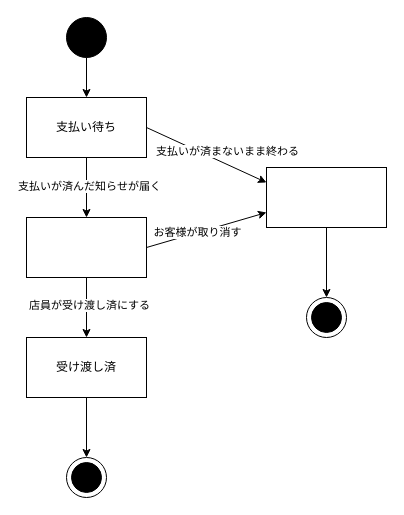
Some shapes in this 404 by 515 pixel diagram are drawn without their labels. Each missing label, with the centre of its shape:
"取り消し済" goes at [326,197].
"受け取り前" goes at [86,247].
